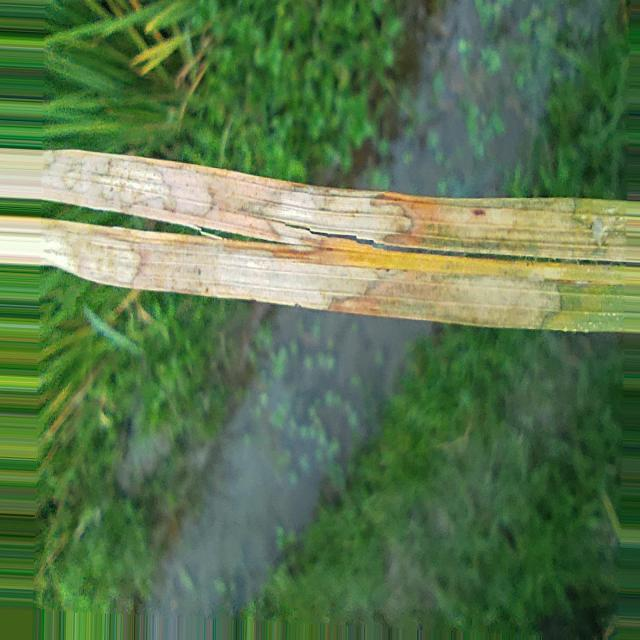Brown_Spot: (472, 208, 486, 217)
Rice False Smut: (42, 150, 216, 223), (410, 265, 569, 326), (215, 250, 375, 308), (41, 220, 156, 290), (282, 185, 412, 242), (60, 228, 100, 267)
